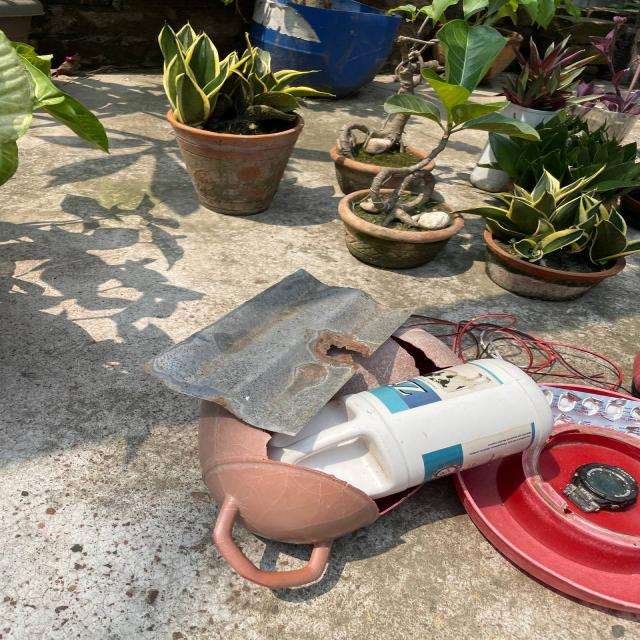Cable: (458, 298, 630, 382)
E-waste: (578, 448, 640, 510)
Medical Waste: (550, 381, 640, 429)
Metal: (137, 267, 417, 423)
Plastics: (155, 390, 561, 620)
